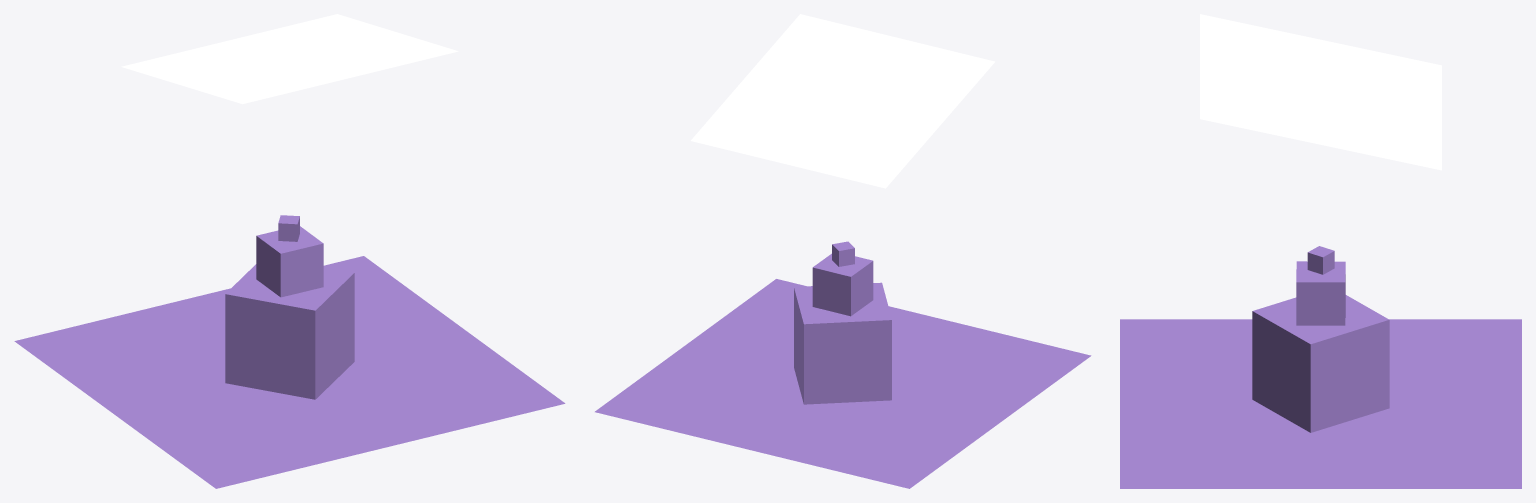
The model's file is transform.glb.
3 renders of one model, left to right at view 1: azimuth 30°, elevation 25°; view 2: azimuth 150°, elevation 25°; view 3: azimuth 270°, elevation 25°, orthographic. The views are drawn at different scales.
Parts seen in each view (by area): view 1: Plane, Plane.001, Cube, Cube.001; view 2: Plane, Plane.001, Cube, Cube.001; view 3: Plane, Plane.001, Cube, Cube.001, Cube.002.
Boxes of the visible parts, x1,y1,x2,y2 form: Plane: (14,256,565,488); Plane.001: (121,14,458,104); Cube: (225,264,354,399); Cube.001: (256,226,323,297); Plane: (595,279,1091,488); Plane.001: (691,14,994,188); Cube: (794,282,891,404); Cube.001: (812,253,873,316); Plane: (1120,319,1521,488); Plane.001: (1200,14,1441,170); Cube: (1252,295,1389,432); Cube.001: (1296,261,1345,325); Cube.002: (1307,246,1334,274).
Size of the model in its own units: 2 by 1.85 by 2.
